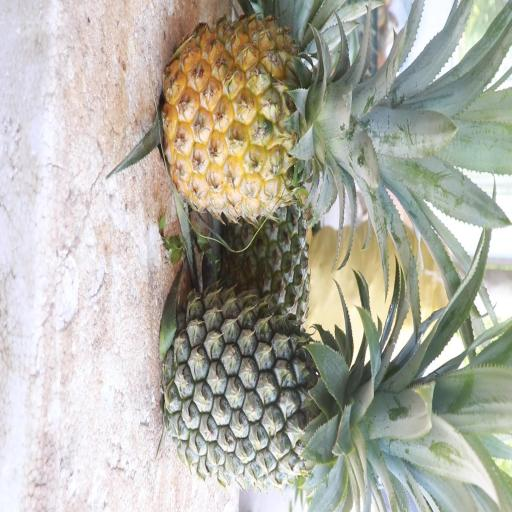Pineapple - v8 v1: (156, 5, 433, 235)
